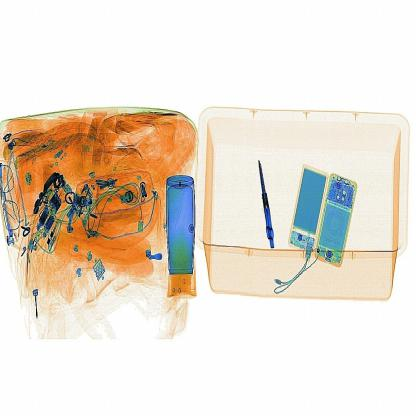gun: (247, 148, 277, 254)
